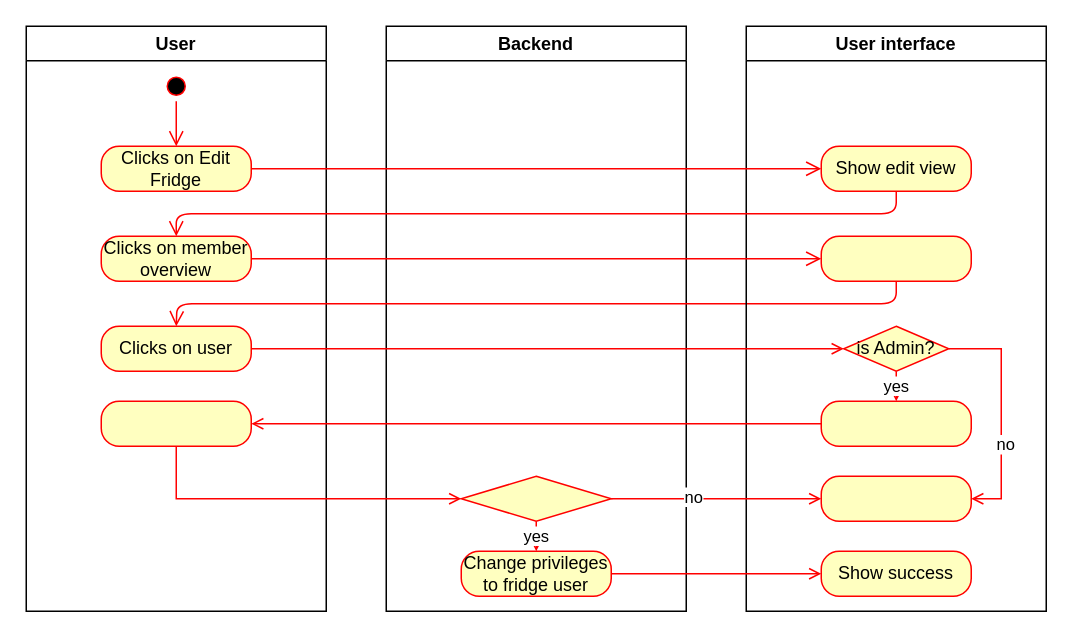
The diagram is 1073 pixels wide and 638 high, and some of its shapes have lost their labels. Each missing label, with the box of its shape:
Click on Remove Admin: (100, 400, 251, 446)
has privileges?: (460, 475, 611, 521)
Not possible: (820, 475, 971, 521)
Show Admin View: (820, 400, 971, 446)
Show member list: (820, 235, 971, 281)
